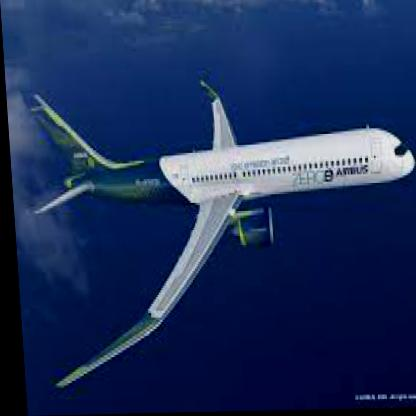Aircraft: (19, 68, 415, 386)
